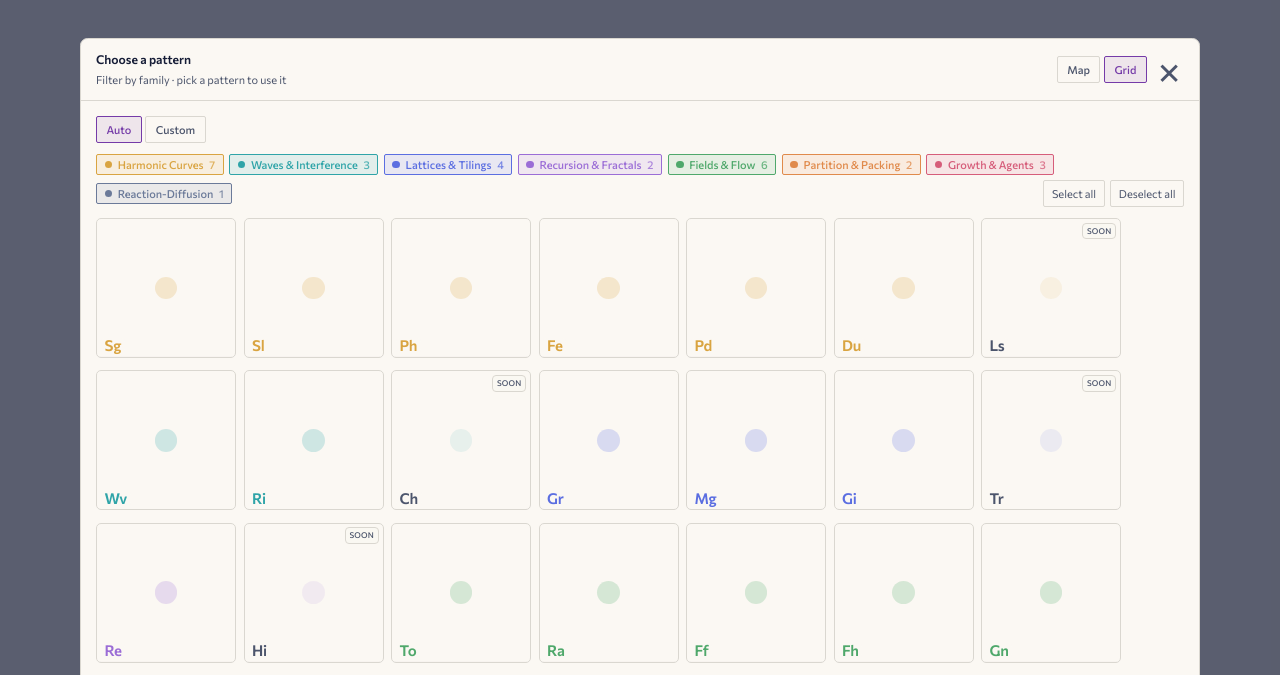
Test: PatternPickerModal — tabs (slice 7) › switches to the Map table on Map tab, and back to the grid on Grid tab
Note: → Map: a taxonomy row label appears, filter bar gone.
Click the tab "Map". click: (1079,69)
box: [1057,56,1100,83]
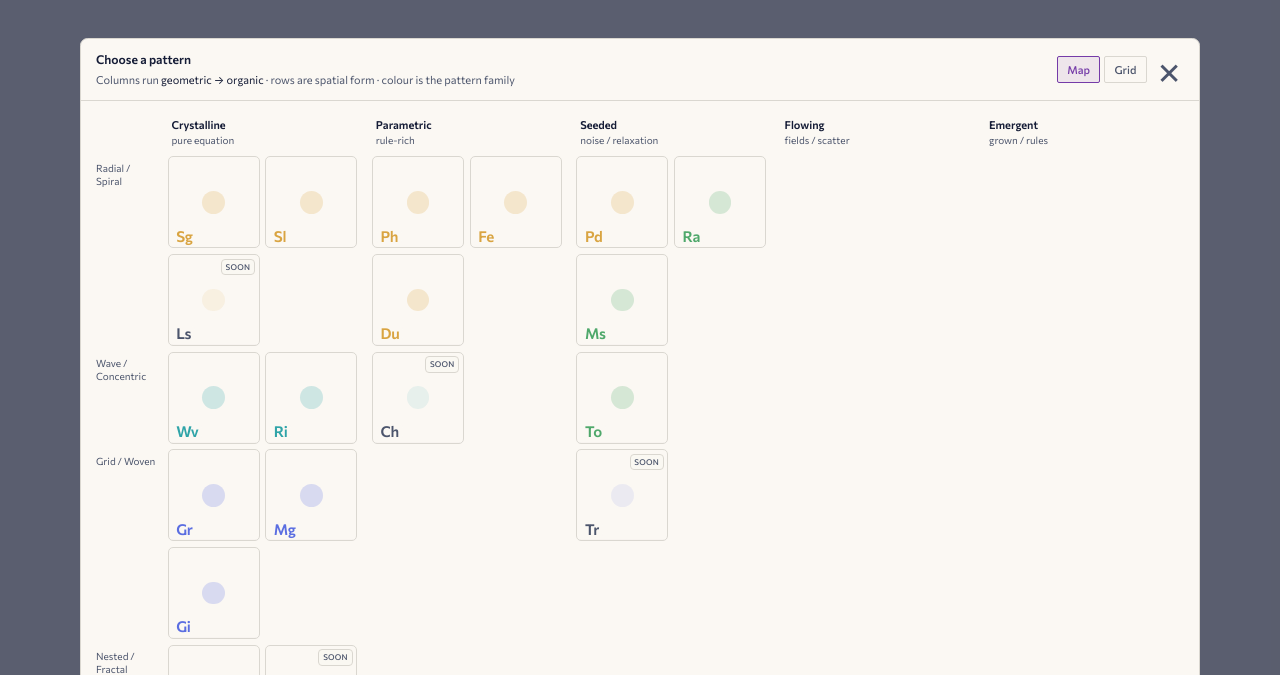
Check: the text "Radial / Spiral" is shown, box [96,162,130,186]
Check: the text "Filter by family" is gone
Note: → Grid: filter bar returns, row label gone.
Click the tab "Grid". click: (1125,69)
box: [1104,56,1147,83]
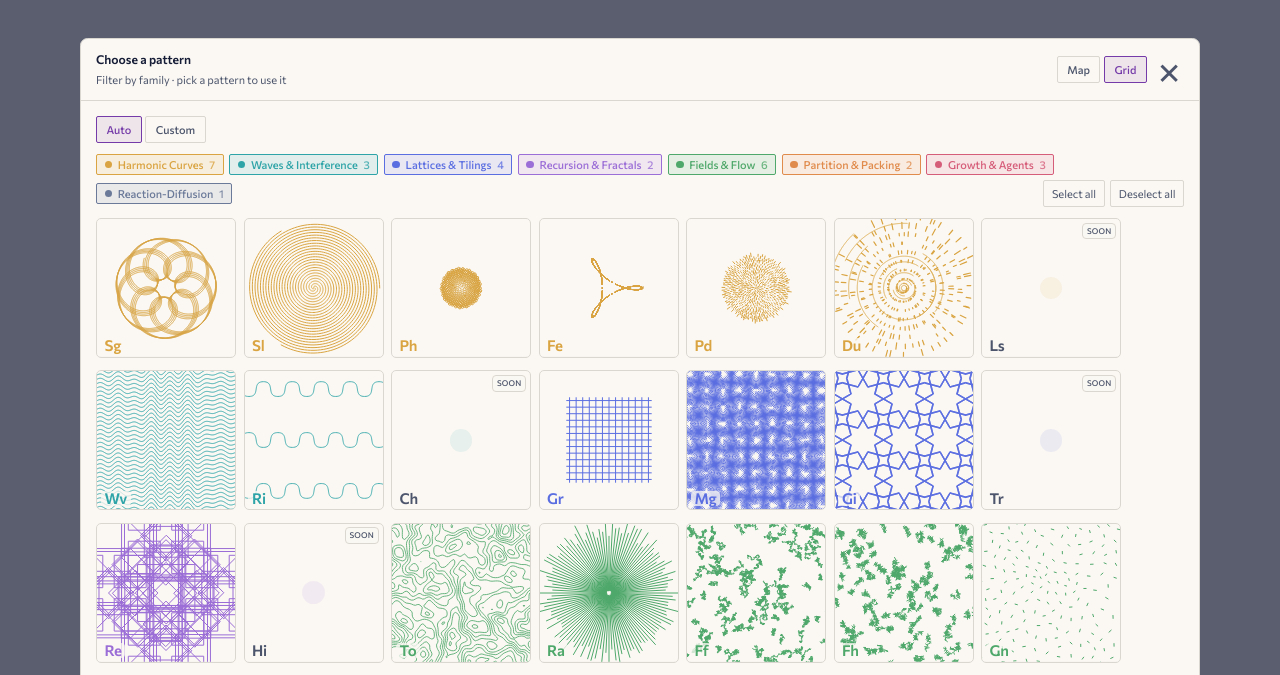
Check: the element named "Filter by family" is shown, box [96,154,1184,207]
Check: the text "Radial / Spiral" is gone
